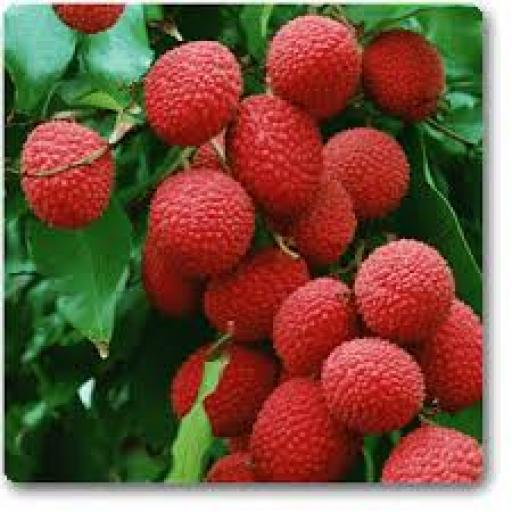lychee: (226, 96, 323, 218), (148, 169, 254, 277), (251, 378, 359, 482), (355, 239, 455, 345), (144, 41, 241, 145), (321, 337, 423, 434), (267, 14, 361, 118), (21, 121, 113, 227), (205, 249, 309, 341), (274, 278, 357, 375), (362, 30, 446, 122), (324, 128, 409, 218), (417, 301, 482, 411), (203, 346, 277, 436), (287, 180, 357, 266), (383, 426, 482, 484), (142, 237, 202, 316), (53, 5, 125, 34), (205, 451, 254, 482), (192, 135, 225, 170), (226, 433, 250, 452)
